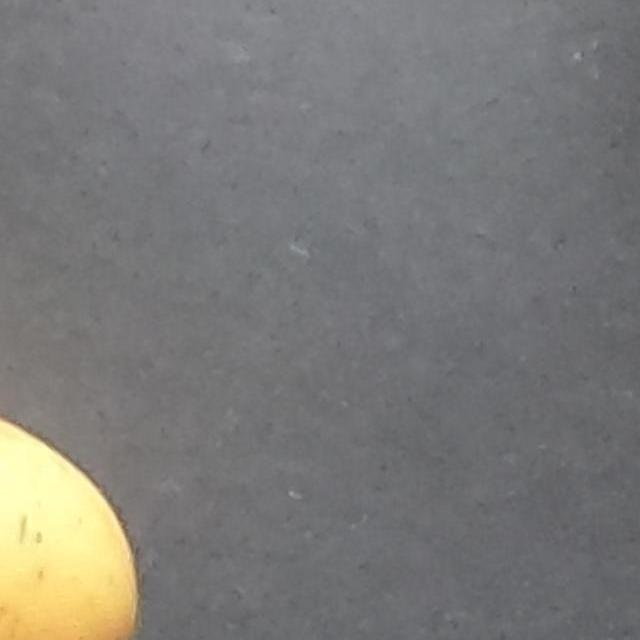potato: (0, 281, 277, 640)
